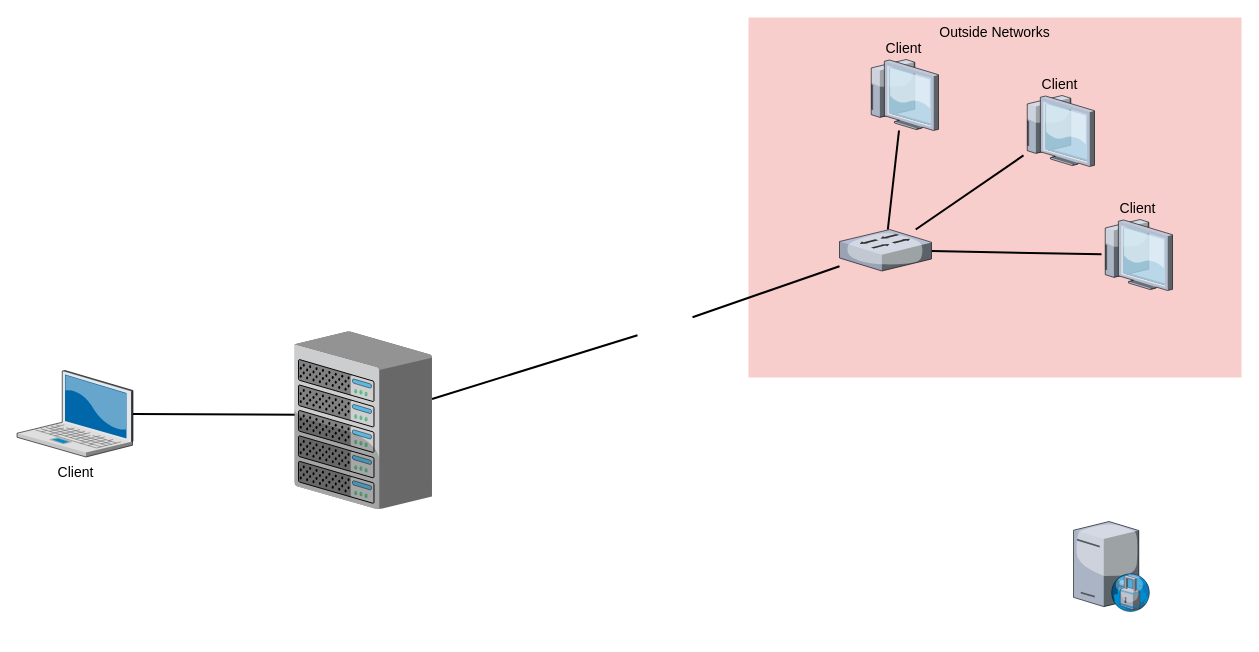
This 1259x652 diagram has some shape labels left out. The shapes that lost their labels are listed below. From the top down, each one's centre as x and y in pixels, then its label:
At (363,419): "DNS".
At (1111,566): "Secure Server".
